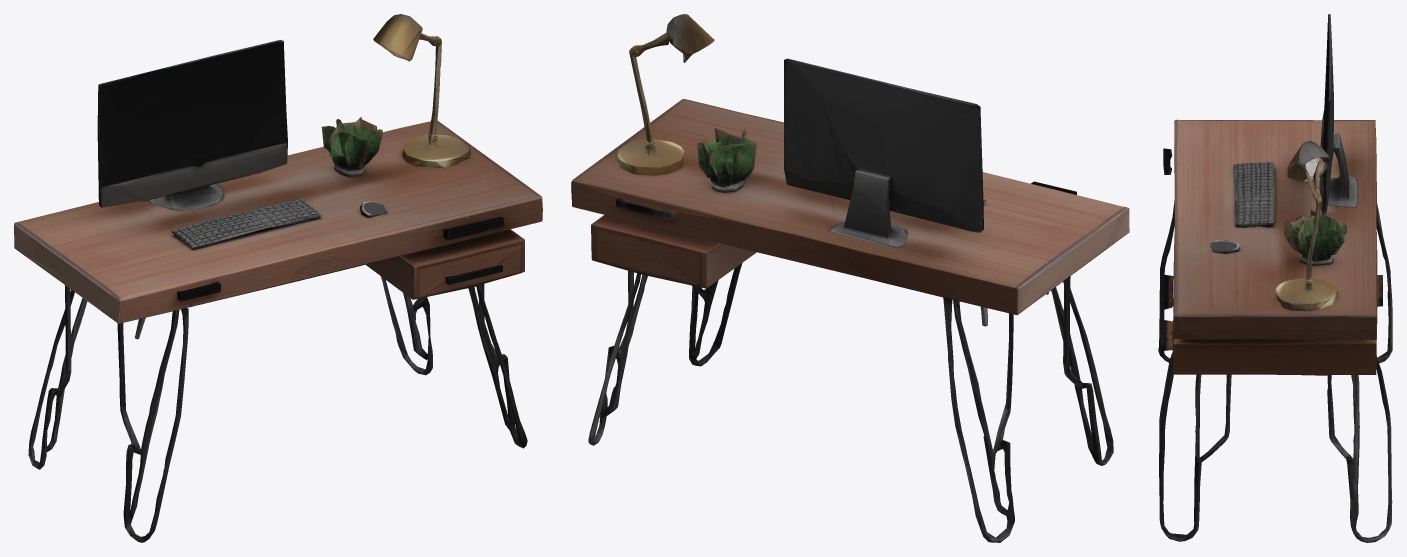
The model's file is desk.glb.
3 views of the same model, side by side, from view 1: azimuth 30°, elevation 25°; view 2: azimuth 150°, elevation 25°; view 3: azimuth 270°, elevation 25° (orthographic). The views are drawn at different scales.
Visible parts, largest first — view 1: world; view 2: world; view 3: world.
Boxes of the visible parts, x1,y1,x2,y2 form: world: (14,14,542,542); world: (571,14,1129,542); world: (1158,14,1392,542).
Size of the model in its own units: 1 by 0.8912 by 0.5027.
Materials: 1 (1 with a texture image).
